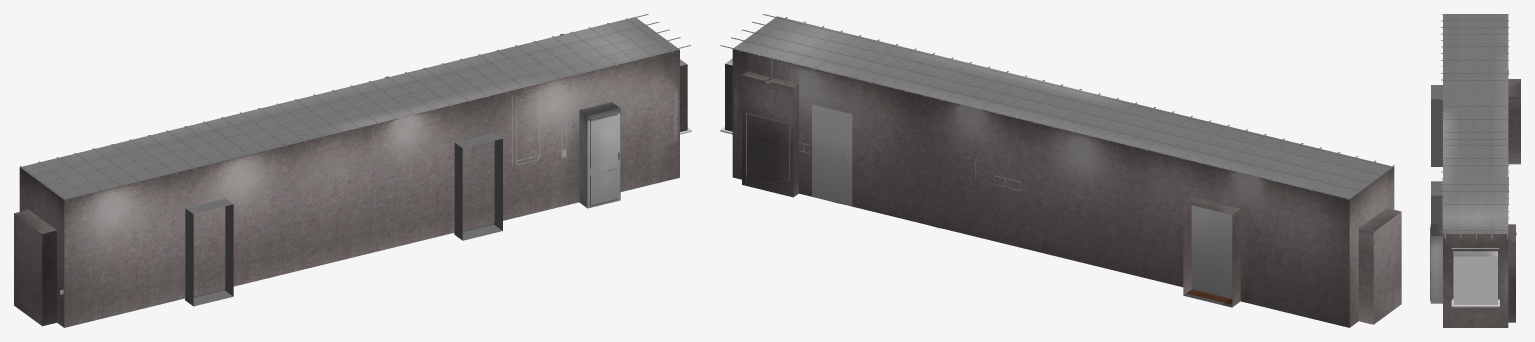
File: koridor — копия.fbx
3 renders of one model, left to right at view 1: azimuth 30°, elevation 25°; view 2: azimuth 150°, elevation 25°; view 3: azimuth 270°, elevation 25°, orthographic. The views are drawn at different scales.
Visible parts, largest first — view 1: koridor, door; view 2: koridor, door; view 3: koridor, door.
Part boxes in pixels (left/top/right/bottom): koridor: left=14, top=14, right=691, bottom=327; door: left=185, top=108, right=620, bottom=306; koridor: left=720, top=14, right=1401, bottom=327; door: left=812, top=104, right=1232, bottom=298; koridor: left=1430, top=14, right=1520, bottom=327; door: left=1430, top=85, right=1442, bottom=300.
Bounding box in the file's own units: 14.79 × 2.86 × 2.44.
